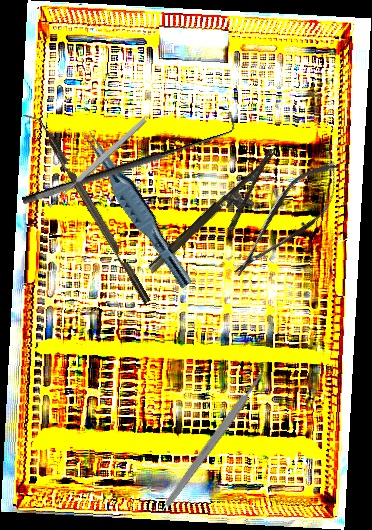Chopper: (23, 106, 151, 310)
Hook Surgical: (16, 110, 240, 208)
Micro Scissor: (219, 149, 356, 291)
Needle Holder: (146, 148, 295, 290)
Scalpel Handle: (162, 370, 267, 509)
Surgical Spoon: (46, 116, 148, 210)
Tissue Forceps: (74, 127, 202, 290)
